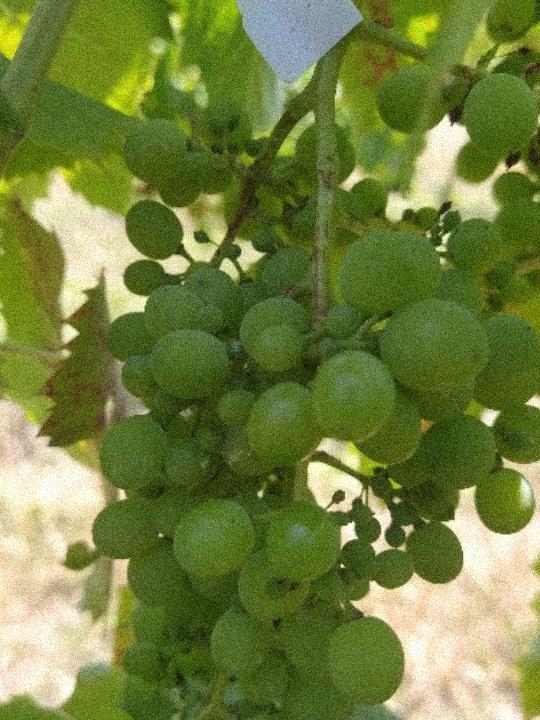grape: (75, 0, 540, 720)
